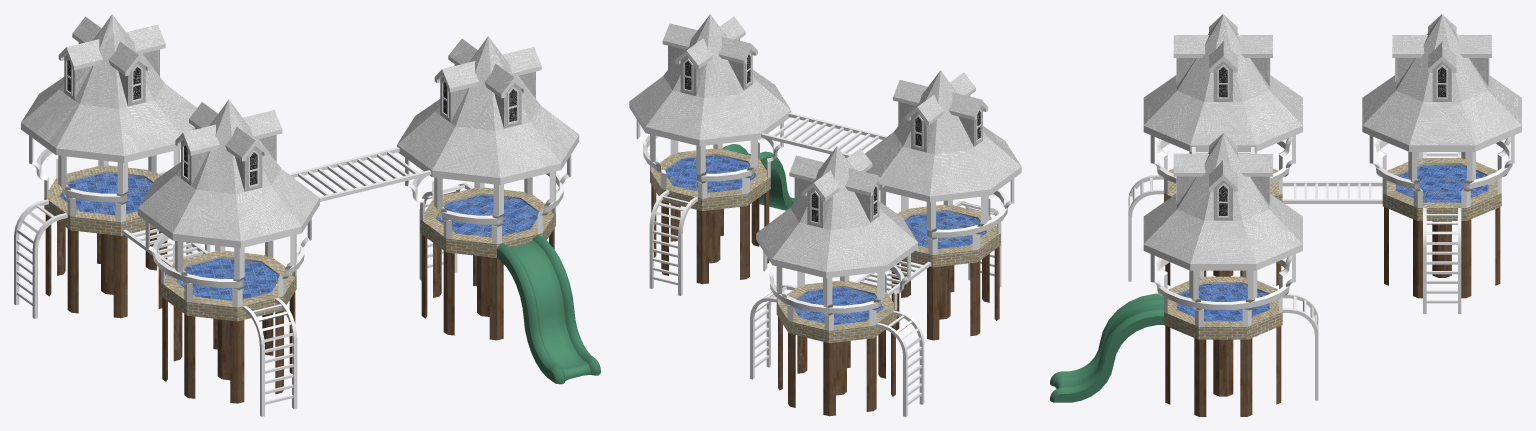
File: Playground.dae
3 renders of one model, left to right at view 1: azimuth 30°, elevation 25°; view 2: azimuth 150°, elevation 25°; view 3: azimuth 270°, elevation 25°, orthographic. The views are drawn at different scales.
Visible parts, largest first — view 1: Roof (×6), Base (×6), Leg (×8), Slide, Railing (×7), Dormer (×6), Ladder (×4), Pole (×3), Monkey_Bars (×2); view 2: Roof (×6), Base (×6), Leg (×13), Dormer (×13), Railing (×7), Ladder (×5), Pole (×3), Slide, Monkey_Bars (×2); view 3: Roof (×6), Base (×4), Leg (×7), Slide, Railing (×5), Dormer (×6), Pole (×2), Bridge (×2), Ladder (×2).
Boxes of the visible parts, x1,y1,x2,y2 form: Roof (×6): (21, 14, 579, 248); Base (×6): (44, 165, 555, 321); Leg (×8): (67, 228, 503, 403); Slide: (497, 234, 600, 384); Railing (×7): (29, 135, 559, 307); Dormer (×6): (66, 24, 541, 151); Ladder (×4): (14, 199, 297, 416); Pole (×3): (101, 234, 489, 380); Monkey_Bars (×2): (288, 147, 431, 201); Roof (×6): (629, 14, 1021, 278); Base (×6): (650, 148, 1000, 343); Leg (×13): (661, 198, 999, 416); Dormer (×13): (663, 23, 981, 228); Railing (×7): (647, 134, 1007, 330); Ladder (×5): (649, 190, 924, 416); Pole (×3): (709, 209, 950, 395); Slide: (722, 144, 794, 210); Monkey_Bars (×2): (761, 112, 887, 157); Roof (×6): (1143, 14, 1521, 270); Base (×4): (1164, 158, 1501, 339); Leg (×7): (1165, 207, 1500, 416); Slide: (1050, 293, 1163, 402); Railing (×5): (1150, 135, 1512, 326); Dormer (×6): (1173, 35, 1491, 172); Pole (×2): (1213, 221, 1451, 396); Bridge (×2): (1282, 181, 1382, 203); Ladder (×2): (1128, 189, 1318, 400).
Bounding box in the file's own units: 383 × 396 × 240.
